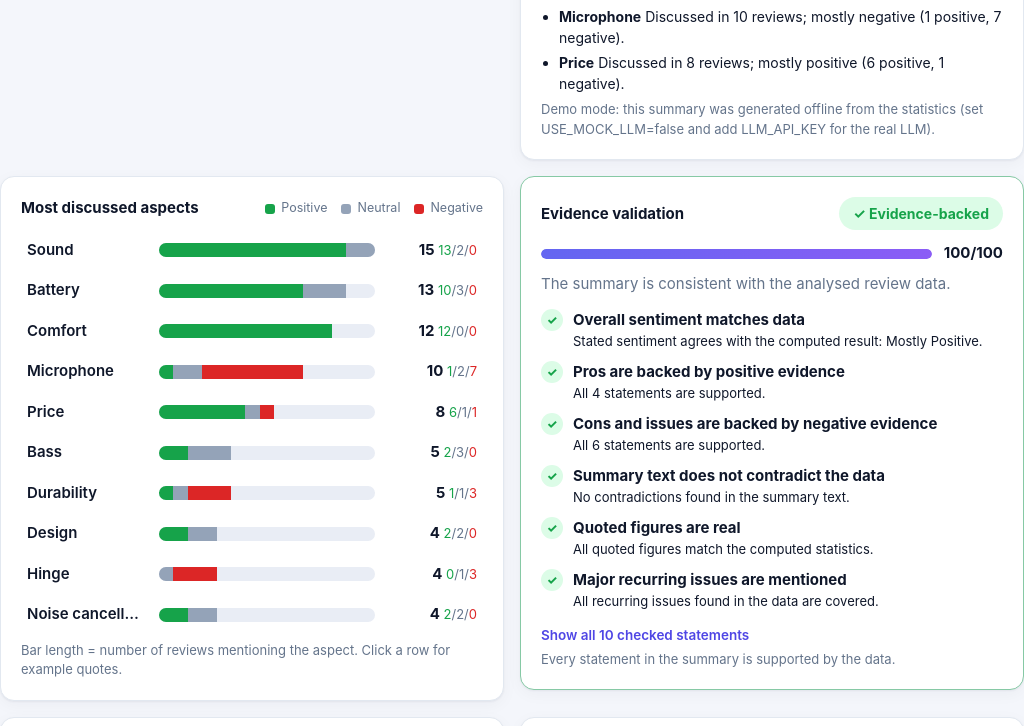
Dashboard with real API output (headphones, evidence-backed) › lists the most discussed aspects and reveals example quotes on click
This screenshot has width=1024, height=726.
(page scrolled)
Click the button "Microphone 10 1/2/7" at (252, 372), box [21,353,483,390]
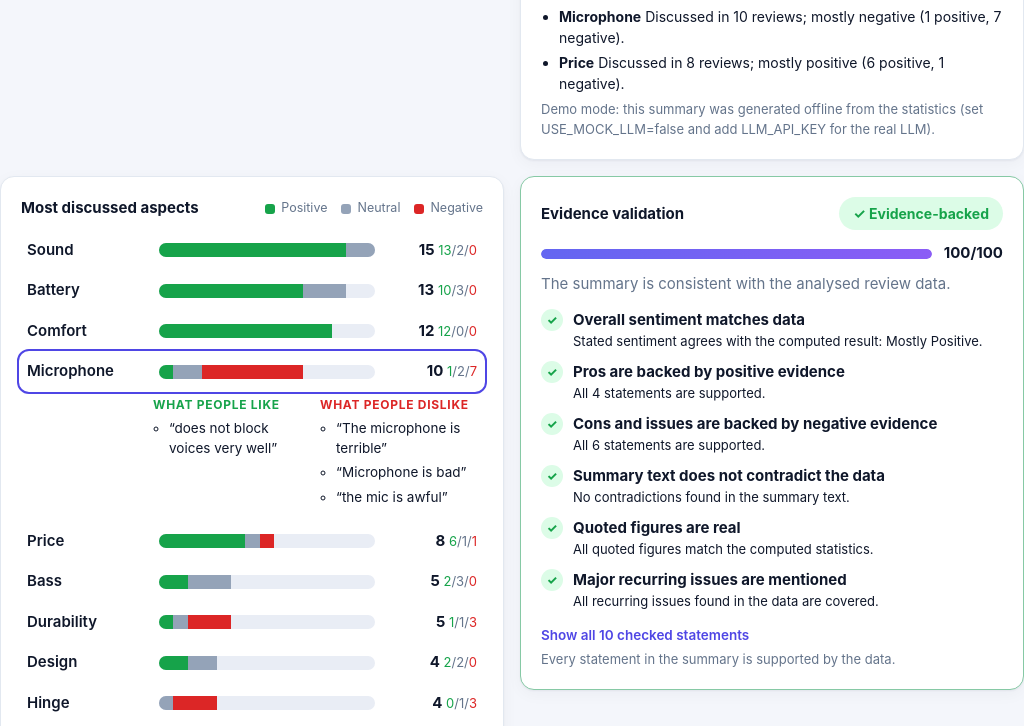
Now the heading "What people dislike" is shown, box [320,396,473,414]
Now the list item "“The microphone is terrible”" is shown, box [336,418,473,458]
